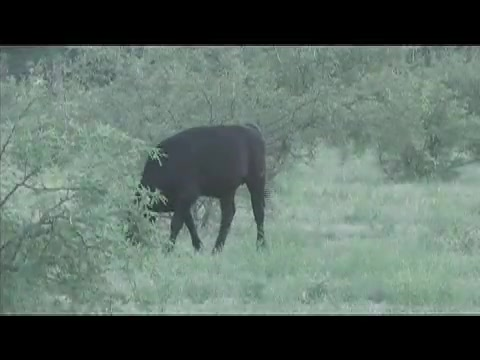cow: (134, 123, 272, 255)
